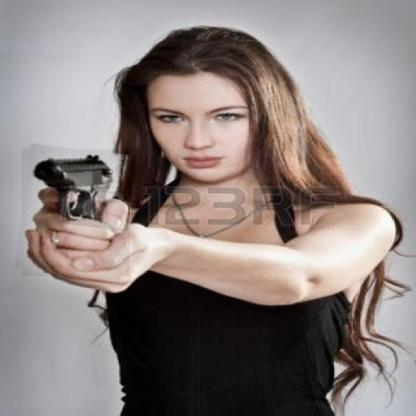handgun: (18, 146, 133, 279)
